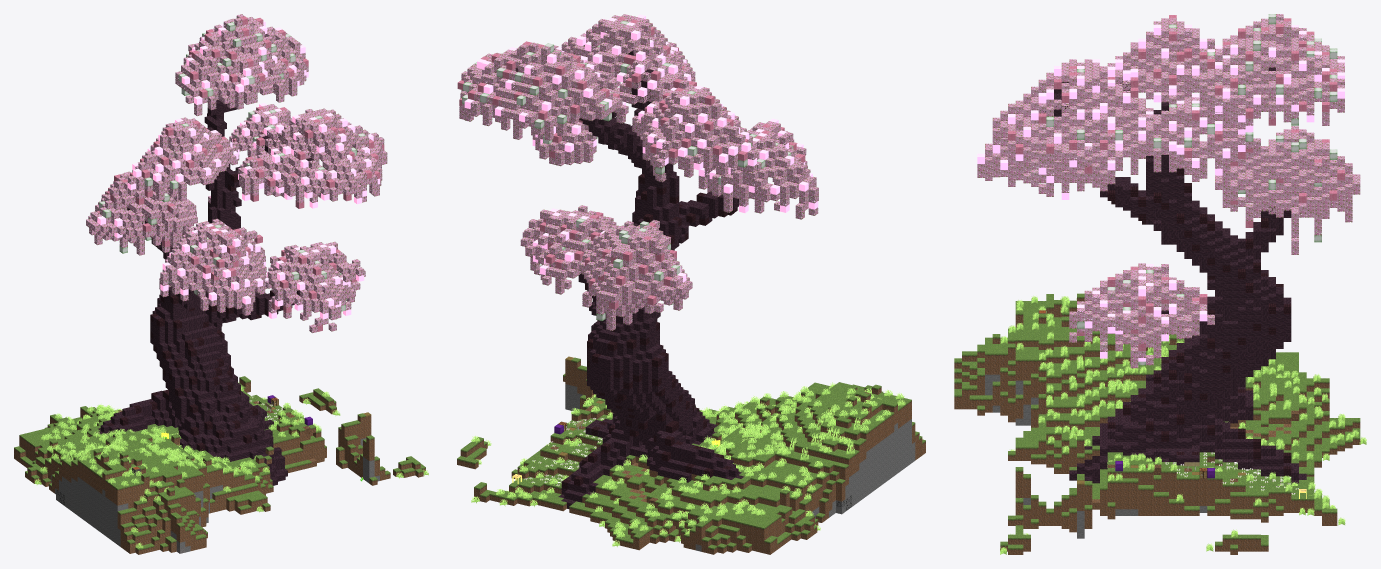
Rendered from BlossomTree.fbx.
The picture shows the model from 3 angles, left to right: view 1: azimuth 30°, elevation 25°; view 2: azimuth 150°, elevation 25°; view 3: azimuth 270°, elevation 25°; orthographic projection. The views are drawn at different scales.
Parts seen in each view (by area): view 1: _gltfNode_8, _gltfNode_6, _gltfNode_10, _gltfNode_19, _gltfNode_4, _gltfNode_18, _gltfNode_9, _gltfNode_22, _gltfNode_20, _gltfNode_11, _gltfNode_14; view 2: _gltfNode_8, _gltfNode_6, _gltfNode_10, _gltfNode_18, _gltfNode_19, _gltfNode_22, _gltfNode_9, _gltfNode_4, _gltfNode_11, _gltfNode_20, _gltfNode_14, _gltfNode_21; view 3: _gltfNode_8, _gltfNode_6, _gltfNode_10, _gltfNode_4, _gltfNode_9, _gltfNode_18, _gltfNode_19, _gltfNode_22, _gltfNode_11, _gltfNode_14, _gltfNode_20.
Part boxes in pixels (left/top/right/bottom): _gltfNode_8: left=86, top=17, right=387, bottom=318; _gltfNode_6: left=14, top=376, right=425, bottom=554; _gltfNode_10: left=96, top=87, right=347, bottom=485; _gltfNode_19: left=97, top=20, right=379, bottom=319; _gltfNode_4: left=14, top=386, right=385, bottom=553; _gltfNode_18: left=34, top=382, right=428, bottom=548; _gltfNode_9: left=228, top=14, right=362, bottom=333; _gltfNode_22: left=96, top=16, right=384, bottom=331; _gltfNode_20: left=51, top=438, right=379, bottom=552; _gltfNode_11: left=106, top=172, right=292, bottom=451; _gltfNode_14: left=99, top=21, right=365, bottom=317; _gltfNode_8: left=459, top=15, right=818, bottom=330; _gltfNode_6: left=457, top=357, right=925, bottom=554; _gltfNode_10: left=515, top=41, right=768, bottom=508; _gltfNode_18: left=471, top=382, right=922, bottom=546; _gltfNode_19: left=464, top=14, right=818, bottom=282; _gltfNode_22: left=457, top=16, right=805, bottom=309; _gltfNode_9: left=492, top=14, right=669, bottom=294; _gltfNode_4: left=474, top=365, right=925, bottom=554; _gltfNode_11: left=561, top=133, right=732, bottom=489; _gltfNode_20: left=565, top=384, right=915, bottom=551; _gltfNode_14: left=462, top=20, right=811, bottom=320; _gltfNode_21: left=770, top=406, right=861, bottom=460; _gltfNode_8: left=977, top=14, right=1360, bottom=368; _gltfNode_6: left=954, top=293, right=1360, bottom=554; _gltfNode_10: left=1040, top=41, right=1306, bottom=483; _gltfNode_4: left=954, top=310, right=1337, bottom=551; _gltfNode_9: left=992, top=20, right=1344, bottom=342; _gltfNode_18: left=1000, top=296, right=1366, bottom=554; _gltfNode_19: left=977, top=24, right=1344, bottom=361; _gltfNode_22: left=1008, top=15, right=1355, bottom=350; _gltfNode_11: left=1107, top=158, right=1291, bottom=476; _gltfNode_14: left=1031, top=14, right=1337, bottom=365; _gltfNode_20: left=985, top=374, right=1207, bottom=538.
Bounding box in the file's own units: 81.54 × 100 × 76.86.
Materials: 22 (22 with a texture image).
